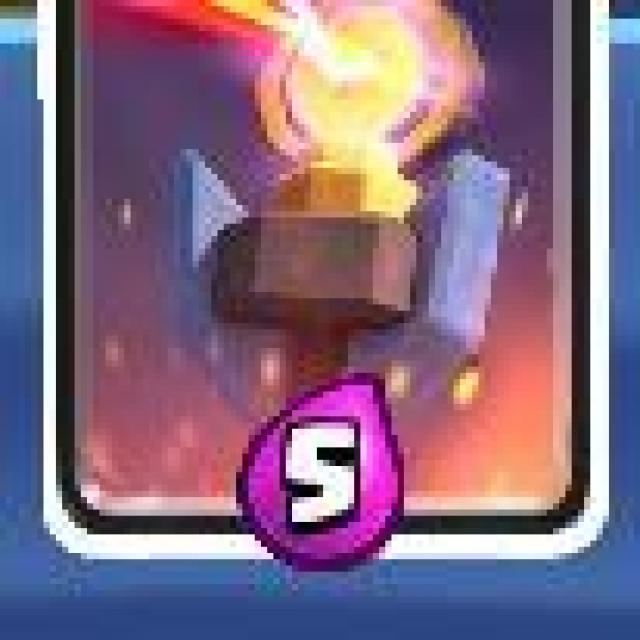Inferno_Tower: (46, 0, 608, 564)
